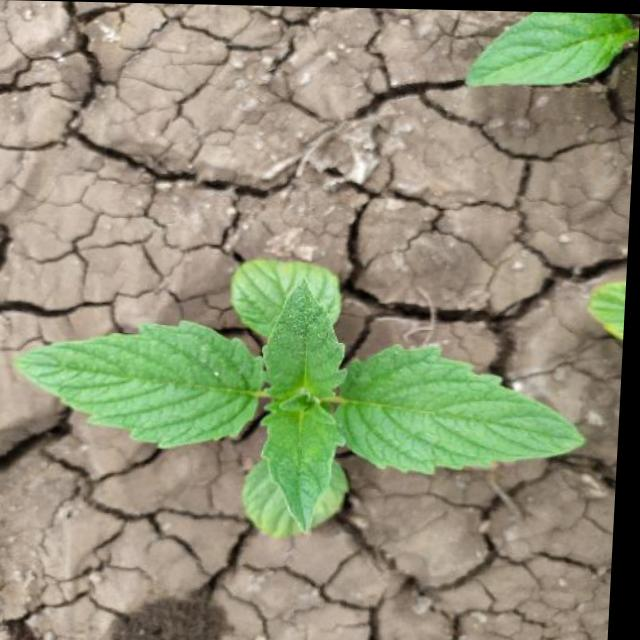crop: (4, 252, 612, 563)
